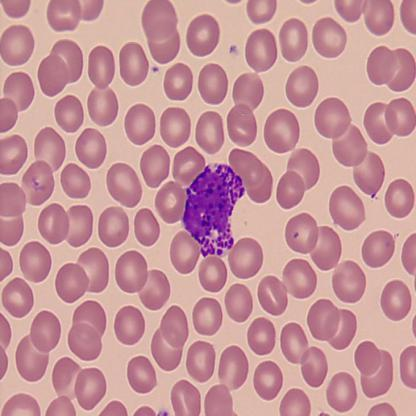Basophil: (180, 159, 247, 256)
